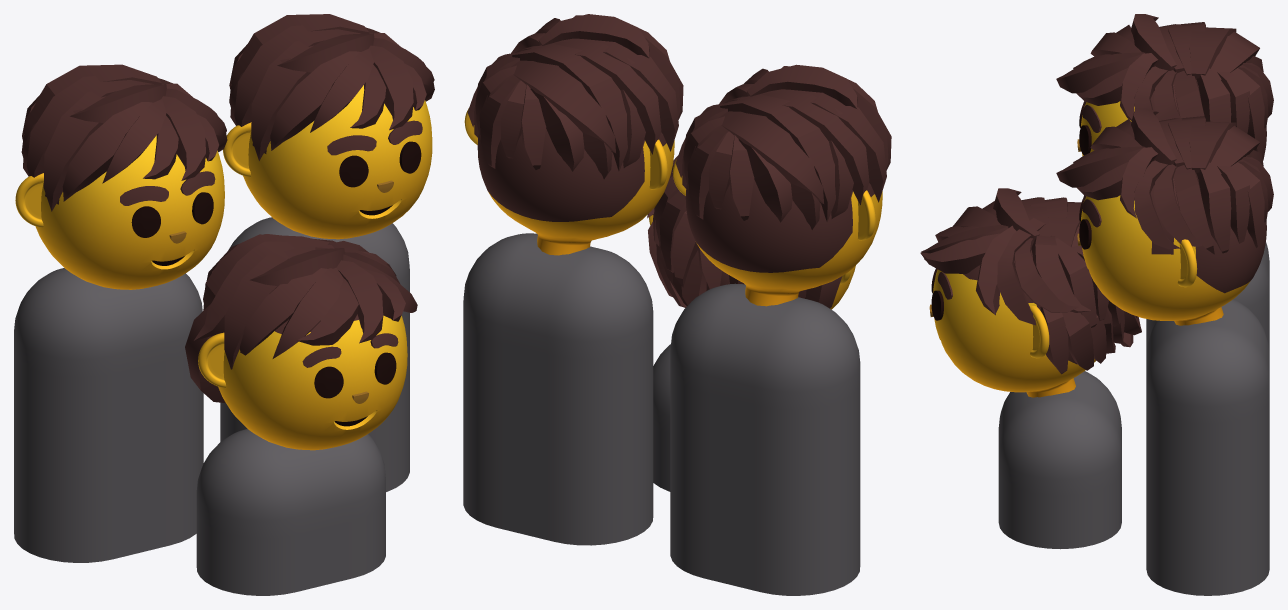
File: Family.gltf
3 views of the same model, side by side, from view 1: azimuth 30°, elevation 25°; view 2: azimuth 150°, elevation 25°; view 3: azimuth 270°, elevation 25° (orthographic). The views are drawn at different scales.
Visible parts, largest first — view 1: Sphere.271, Sphere.270, Cube.4006, Cube.4060, Cube.4038, Roundcube.327, Roundcube.326, Roundcube.325, Sphere.272, Circle.1437, Circle.1444, Circle.1440 (+6 smaller); view 2: Sphere.272, Sphere.271, Cube.4060, Cube.4038, Roundcube.327, Roundcube.326, Cube.4006, Sphere.270, Cylinder.266, Cylinder.267; view 3: Sphere.272, Cube.4060, Cube.4006, Sphere.270, Cube.4038, Roundcube.327, Roundcube.325, Sphere.271, Roundcube.326, Cylinder.265, Cylinder.267.
Part boxes in pixels (<box>): Sphere.271: <box>14,268,203,562</box>; Sphere.270: <box>196,429,385,595</box>; Cube.4006: <box>185,234,417,402</box>; Cube.4060: <box>229,14,434,160</box>; Cube.4038: <box>21,64,227,211</box>; Roundcube.327: <box>243,85,432,239</box>; Roundcube.326: <box>35,135,224,289</box>; Roundcube.325: <box>218,314,407,450</box>; Sphere.272: <box>220,217,409,491</box>; Circle.1437: <box>314,352,396,398</box>; Circle.1444: <box>339,141,421,187</box>; Circle.1440: <box>131,192,213,237</box>; Sphere.272: <box>463,233,653,545</box>; Sphere.271: <box>670,283,860,595</box>; Cube.4060: <box>467,14,683,179</box>; Cube.4038: <box>675,64,891,229</box>; Roundcube.327: <box>477,128,674,255</box>; Roundcube.326: <box>685,179,882,306</box>; Cube.4006: <box>647,155,842,308</box>; Sphere.270: <box>653,344,670,491</box>; Cylinder.266: <box>672,159,875,240</box>; Cylinder.267: <box>464,108,667,189</box>; Sphere.272: <box>1146,299,1269,595</box>; Cube.4060: <box>1056,108,1273,254</box>; Cube.4006: <box>920,188,1141,374</box>; Sphere.270: <box>998,371,1121,549</box>; Cube.4038: <box>1056,14,1273,151</box>; Roundcube.327: <box>1080,161,1266,325</box>; Roundcube.325: <box>933,250,1095,397</box>; Sphere.271: <box>1146,242,1269,354</box>; Roundcube.326: <box>1080,67,1266,160</box>; Cylinder.265: <box>1030,306,1049,358</box>; Cylinder.267: <box>1177,239,1197,287</box>.
Bounding box in the file's own units: 2.36 × 2.58 × 1.9.
Materials: 6 (2 with a texture image).
